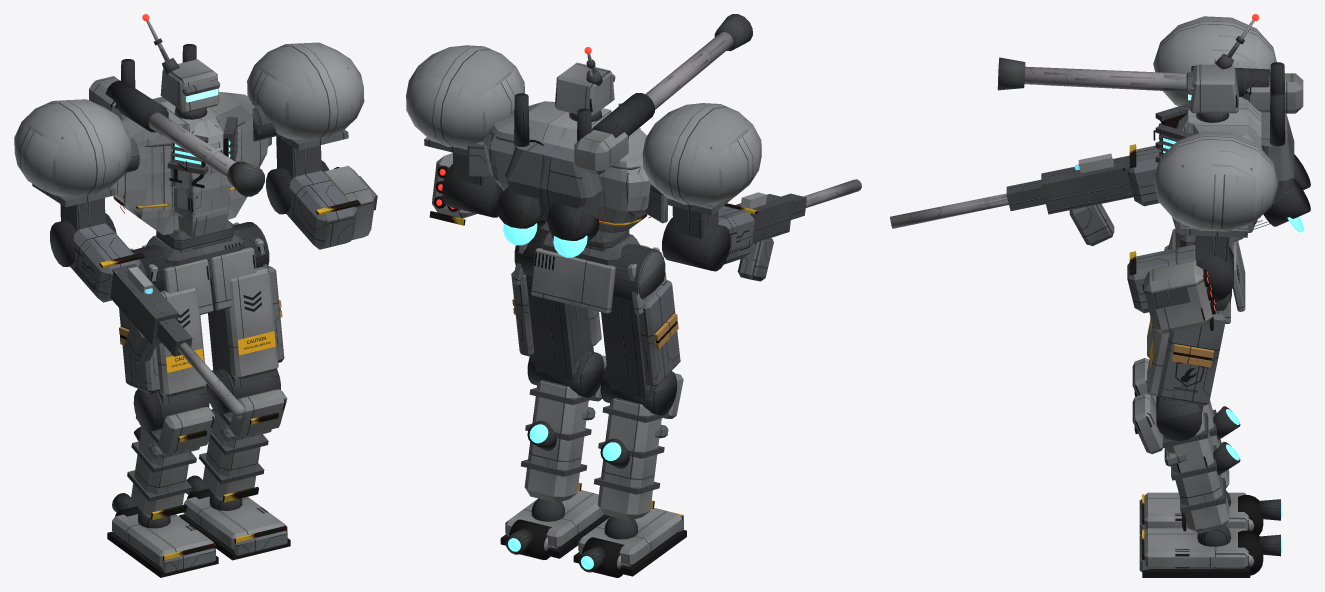
Rendered from mech_sapper.glb.
3 views of the same model, side by side, from view 1: azimuth 30°, elevation 25°; view 2: azimuth 150°, elevation 25°; view 3: azimuth 270°, elevation 25° (orthographic).
Visible parts, largest first — view 1: shoulder_R_sapper_armor.001, shoulder_L_sapper_armor.001, cockpit_sapper_armor.001, CHEST_top_1_sapper_armor.001, shin_R_sapper_armor.001, shin_L_sapper_armor.001, thigh_L_sapper_armor.001, forearm_L_sapper_armor2.001, pelvis_sapper_armor.001, hand_R_sapper_frame.001, forearm_R_sapper_armor2.001, foot_R_sapper_armor.001 (+37 smaller); view 2: shoulder_R_sapper_armor.001, shoulder_L_sapper_armor.001, cockpit_sapper_armor2.001, cockpit_sapper_dark.001, CHEST_top_1_sapper_armor.001, shin_R_sapper_armor.001, shin_L_sapper_armor.001, pelvis_sapper_armor.001, thigh_R_sapper_frame.001, thigh_L_sapper_frame.001, cockpit_sapper_armor.001, thigh_R_sapper_armor2.001 (+25 smaller); view 3: shoulder_L_sapper_armor.001, shoulder_R_sapper_armor.001, shin_L_sapper_armor.001, hand_R_sapper_frame.001, cockpit_sapper_dark.001, foot_L_sapper_armor.001, thigh_L_sapper_armor2.001, forearm_L_sapper_armor.001, cockpit_sapper_metal, head_sapper_armor.001, shin_L_sapper_dark.001, foot_R_sapper_armor.001 (+20 smaller).
Boxes of the visible parts, x1=… form: shoulder_R_sapper_armor.001: x1=14, y1=99, x2=131, y2=196; shoulder_L_sapper_armor.001: x1=247, y1=42, x2=364, y2=139; cockpit_sapper_armor.001: x1=89, y1=76, x2=268, y2=237; CHEST_top_1_sapper_armor.001: x1=121, y1=91, x2=268, y2=178; shin_R_sapper_armor.001: x1=131, y1=407, x2=215, y2=517; shin_L_sapper_armor.001: x1=202, y1=389, x2=287, y2=500; thigh_L_sapper_armor.001: x1=225, y1=267, x2=278, y2=379; forearm_L_sapper_armor2.001: x1=286, y1=170, x2=357, y2=249; pelvis_sapper_armor.001: x1=129, y1=222, x2=268, y2=314; hand_R_sapper_frame.001: x1=110, y1=263, x2=192, y2=356; forearm_R_sapper_armor2.001: x1=70, y1=223, x2=140, y2=302; foot_R_sapper_armor.001: x1=112, y1=514, x2=213, y2=567; shoulder_R_sapper_armor.001: x1=642, y1=103, x2=761, y2=205; shoulder_L_sapper_armor.001: x1=406, y1=45, x2=524, y2=147; cockpit_sapper_armor2.001: x1=467, y1=139, x2=667, y2=223; cockpit_sapper_dark.001: x1=497, y1=93, x2=654, y2=241; CHEST_top_1_sapper_armor.001: x1=483, y1=101, x2=650, y2=197; shin_R_sapper_armor.001: x1=597, y1=373, x2=683, y2=520; shin_L_sapper_armor.001: x1=524, y1=355, x2=606, y2=502; pelvis_sapper_armor.001: x1=513, y1=243, x2=664, y2=314; thigh_R_sapper_frame.001: x1=601, y1=252, x2=665, y2=397; thigh_L_sapper_frame.001: x1=514, y1=245, x2=593, y2=380; cockpit_sapper_armor.001: x1=486, y1=130, x2=649, y2=242; thigh_R_sapper_armor2.001: x1=637, y1=279, x2=680, y2=387; shoulder_L_sapper_armor.001: x1=1153, y1=131, x2=1278, y2=231; shoulder_R_sapper_armor.001: x1=1153, y1=16, x2=1276, y2=106; shin_L_sapper_armor.001: x1=1132, y1=393, x2=1229, y2=533; hand_R_sapper_frame.001: x1=1006, y1=155, x2=1133, y2=214; cockpit_sapper_dark.001: x1=1191, y1=62, x2=1310, y2=226; foot_L_sapper_armor.001: x1=1144, y1=528, x2=1248, y2=568; thigh_L_sapper_armor2.001: x1=1158, y1=313, x2=1225, y2=405; forearm_L_sapper_armor.001: x1=1144, y1=261, x2=1212, y2=333; cockpit_sapper_metal: x1=1024, y1=66, x2=1186, y2=91; head_sapper_armor.001: x1=1189, y1=64, x2=1238, y2=113; shin_L_sapper_dark.001: x1=1156, y1=396, x2=1240, y2=475; foot_R_sapper_armor.001: x1=1144, y1=492, x2=1248, y2=530.
Bounding box in the file's own units: 16.06 × 24.04 × 17.48.
14 materials, 8 textured.
